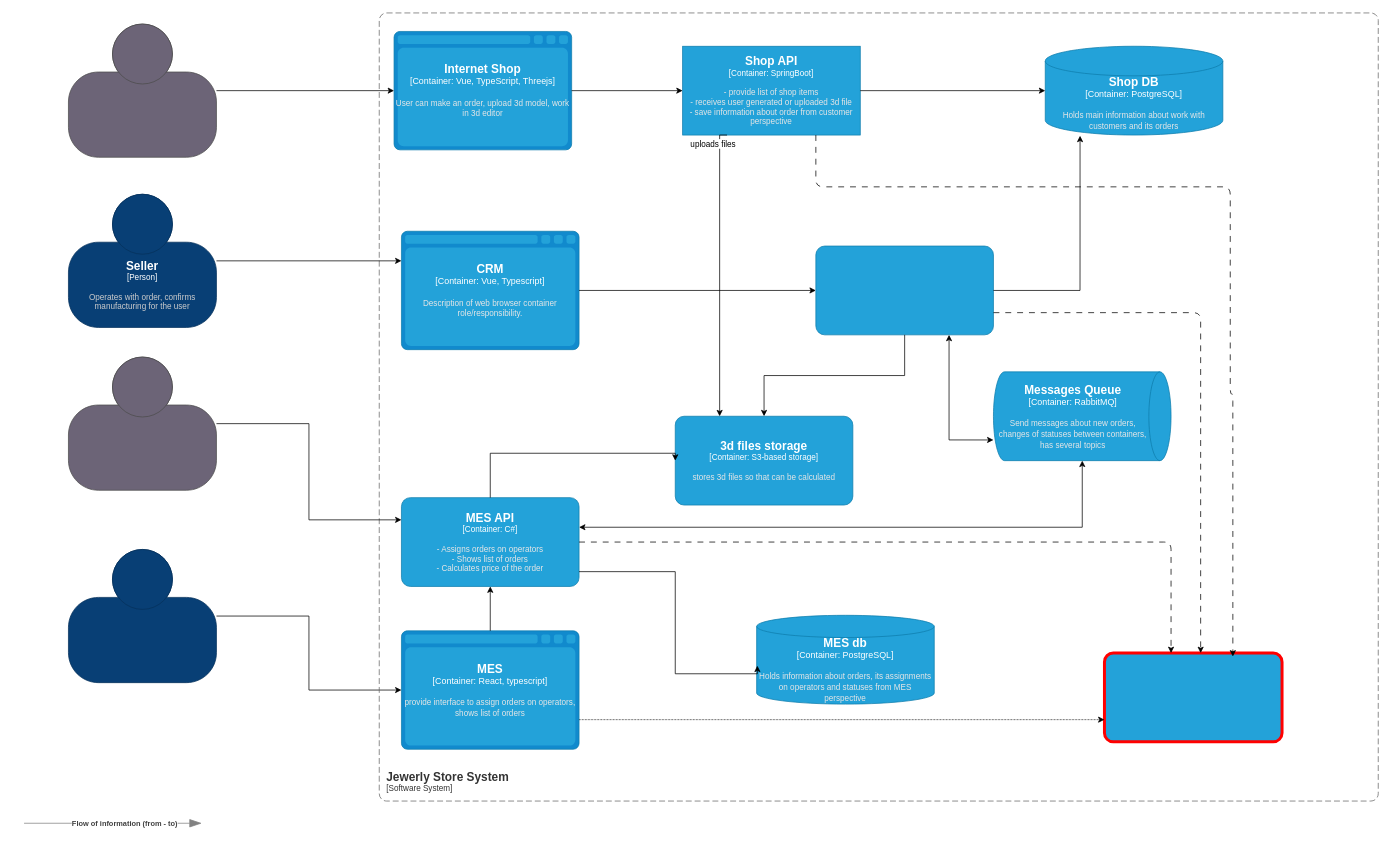
This 1391x848 diagram has some shape labels left out. The shapes that lost their labels are listed below. From the top down, each one's centre as x and y in pixels, then its label:
At (142,90): "Customer [Person] Description of external person.".
At (904,290): "CRM API [Container: SpringBoot] Description of container role/responsibility.".
At (142,423): "API user [Person] Description of external person.".
At (142,616): "Operator [Person] Takes order in work, manufactures jewerly".
At (1193,697): "Tracing [Container: Jaeger] Jaeger Collector для сбора трейсов".
